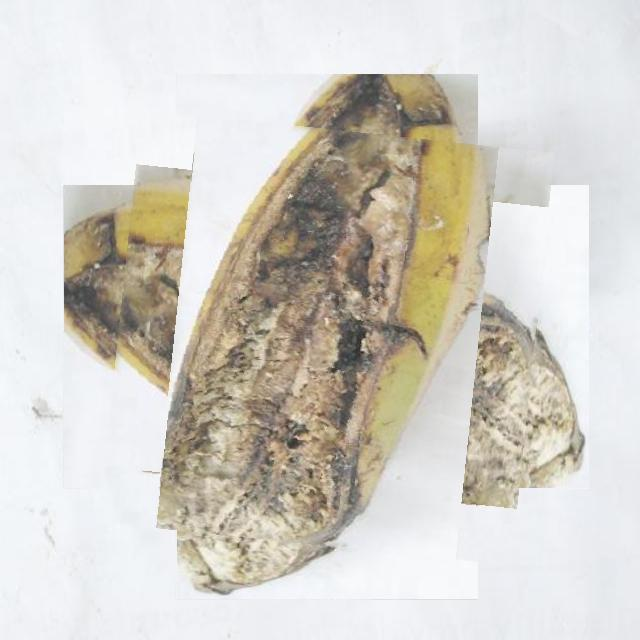Podre: (109, 120, 544, 555)
